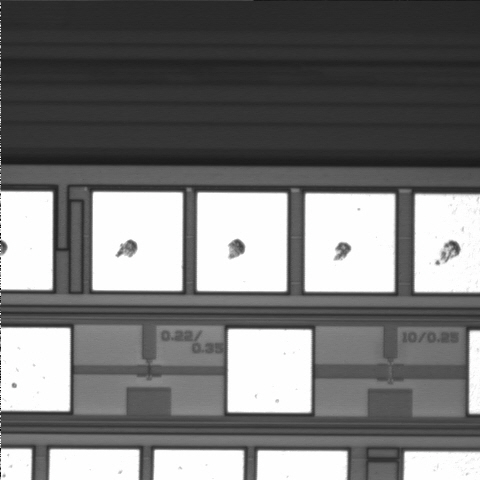pad: (93, 192, 183, 291), (305, 193, 395, 292), (197, 193, 287, 291), (228, 329, 311, 413)
